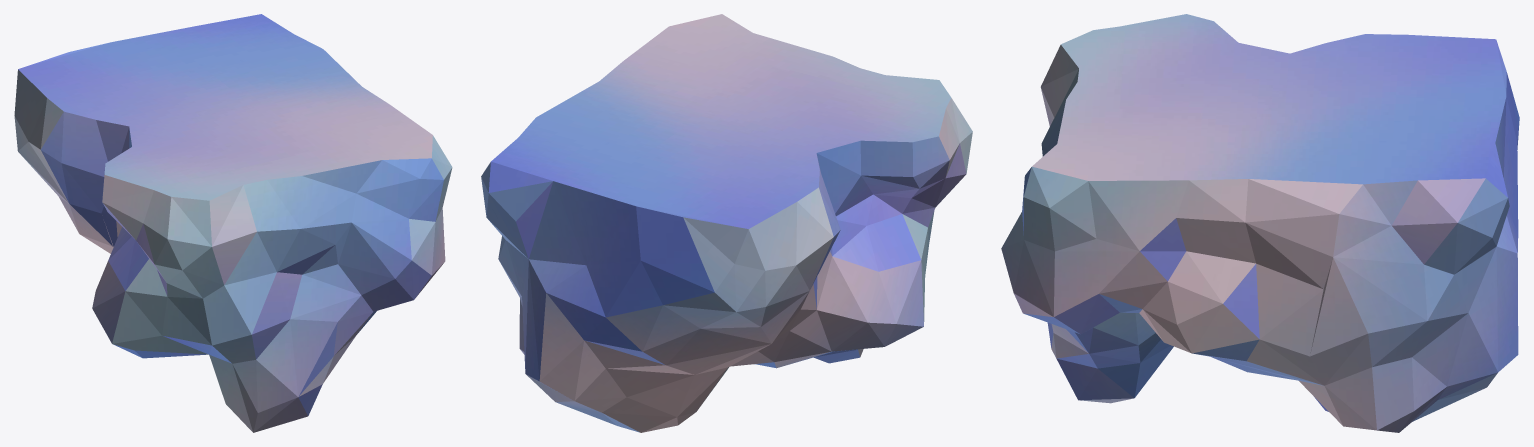
The model's file is облако222.fbx.
3 renders of one model, left to right at view 1: azimuth 30°, elevation 25°; view 2: azimuth 150°, elevation 25°; view 3: azimuth 270°, elevation 25°, orthographic. The views are drawn at different scales.
Parts seen in each view (by area): view 1: облако; view 2: облако; view 3: облако.
Boxes of the visible parts, x1=… form: облако: x1=14, y1=14, x2=452, y2=432; облако: x1=481, y1=14, x2=972, y2=432; облако: x1=1001, y1=14, x2=1519, y2=432.
Size of the model in its own units: 1054 by 839 by 1259.
